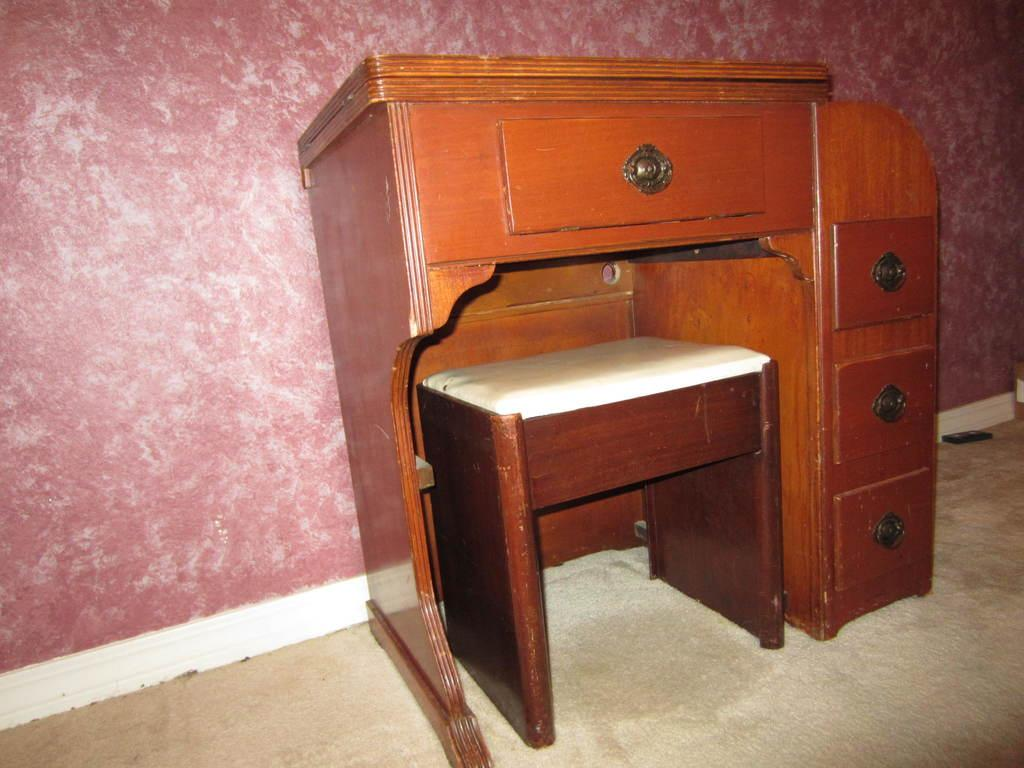cabinet_door: (510, 116, 766, 223), (849, 356, 931, 449), (840, 232, 930, 316), (842, 494, 930, 564)
handle: (625, 138, 675, 200), (872, 509, 909, 556), (878, 380, 910, 429), (876, 250, 907, 294)
